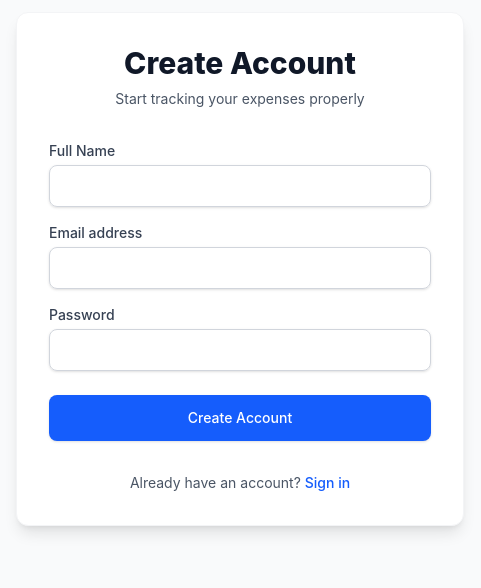
Register Component › shows validation errors for empty fields
Click the button "Create Account" at [240, 418], box left=49, top=395, right=431, bottom=441
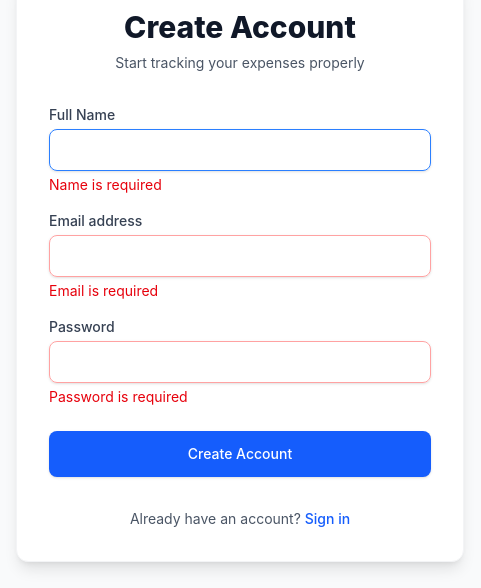
Now the text "Name is required" is shown, box left=49, top=176, right=162, bottom=193
Now the text "Email is required" is shown, box left=49, top=282, right=158, bottom=299
Now the text "Password is required" is shown, box left=49, top=388, right=188, bottom=405
